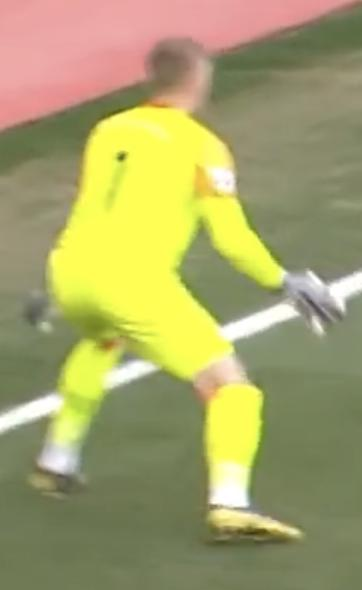goalkeeper: (24, 27, 362, 572)
